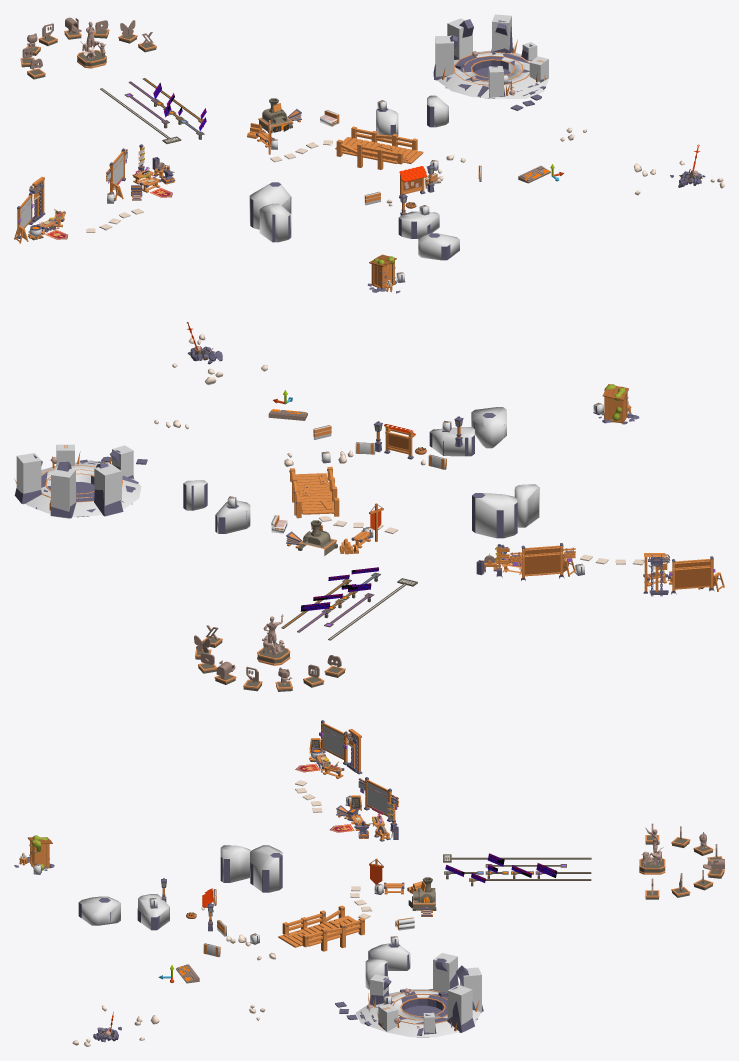
File: scenery.glb
3 views of the same model, one above another, from view 1: azimuth 30°, elevation 25°; view 2: azimuth 150°, elevation 25°; view 3: azimuth 270°, elevation 25° (orthographic). The views are drawn at different scales.
Parts seen in each view (by area): view 1: bridge.001, trimesh.001, Cube.159, hull.016, Cylinder.021, hull.015, hull.011, hull.012, Cube.165, Cube.172, Cube.164, Cube.146 (+4 smaller); view 2: bridge.001, trimesh.001, hull.015, Cube.159, Cube.172, hull.011, Cube.164, hull.012, Cube.146, hull.016, Cube.165, hull.014 (+2 smaller); view 3: bridge.001, trimesh.001, hull.015, Cube.159, Cube.172, hull.011, Cylinder.021, hull.016, hull.014, Cube.146, hull.012, Cube.165 (+2 smaller).
Boxes of the visible parts, x1,y1,x2,y2 form: bridge.001: (335,126,423,169); trimesh.001: (438,50,549,98); Cube.159: (20,29,156,79); hull.016: (259,203,291,242); Cylinder.021: (454,53,545,96); hull.015: (249,183,290,229); hull.011: (418,233,459,260); hull.012: (399,211,439,238); Cube.165: (435,35,453,80); Cube.172: (433,19,532,97); Cube.164: (447,18,472,58); Cube.146: (492,14,511,51); bridge.001: (290,466,339,518); trimesh.001: (26,460,141,517); hull.015: (475,493,517,538); Cube.159: (195,635,345,691); Cube.172: (14,450,133,518); hull.011: (471,407,506,448); Cube.164: (51,467,75,518); hull.012: (430,427,474,456); Cube.146: (16,453,41,504); hull.016: (514,484,538,527); Cube.165: (94,464,121,516); hull.014: (215,500,250,533); bridge.001: (278,905,364,951); trimesh.001: (355,989,480,1037); hull.015: (250,845,282,892); Cube.159: (645,835,724,899); Cube.172: (370,958,483,1034); hull.011: (79,896,120,925); Cylinder.021: (360,991,447,1025); hull.016: (220,845,250,882); hull.014: (368,943,410,970); Cube.146: (447,985,472,1032); hull.012: (137,894,169,929); Cube.165: (433,953,457,993).
Bounding box in the file's own units: 83.84 × 8.2 × 85.35.
Materials: 37 (10 with a texture image).
